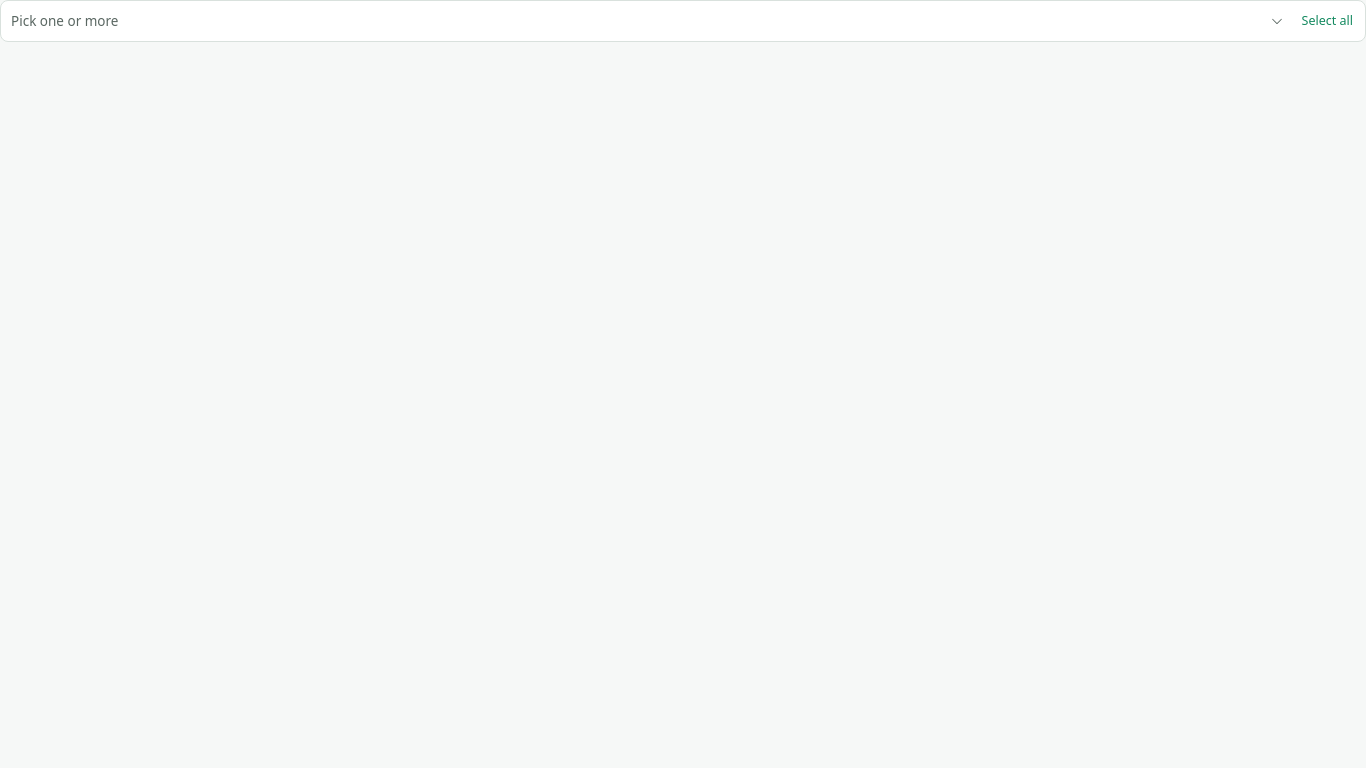
it: MultiSelect › ticks many, shows chips, removes one by its chip and clears
Click the button with aria-label "Branches" at (65, 21), box [5,5,1290,37]
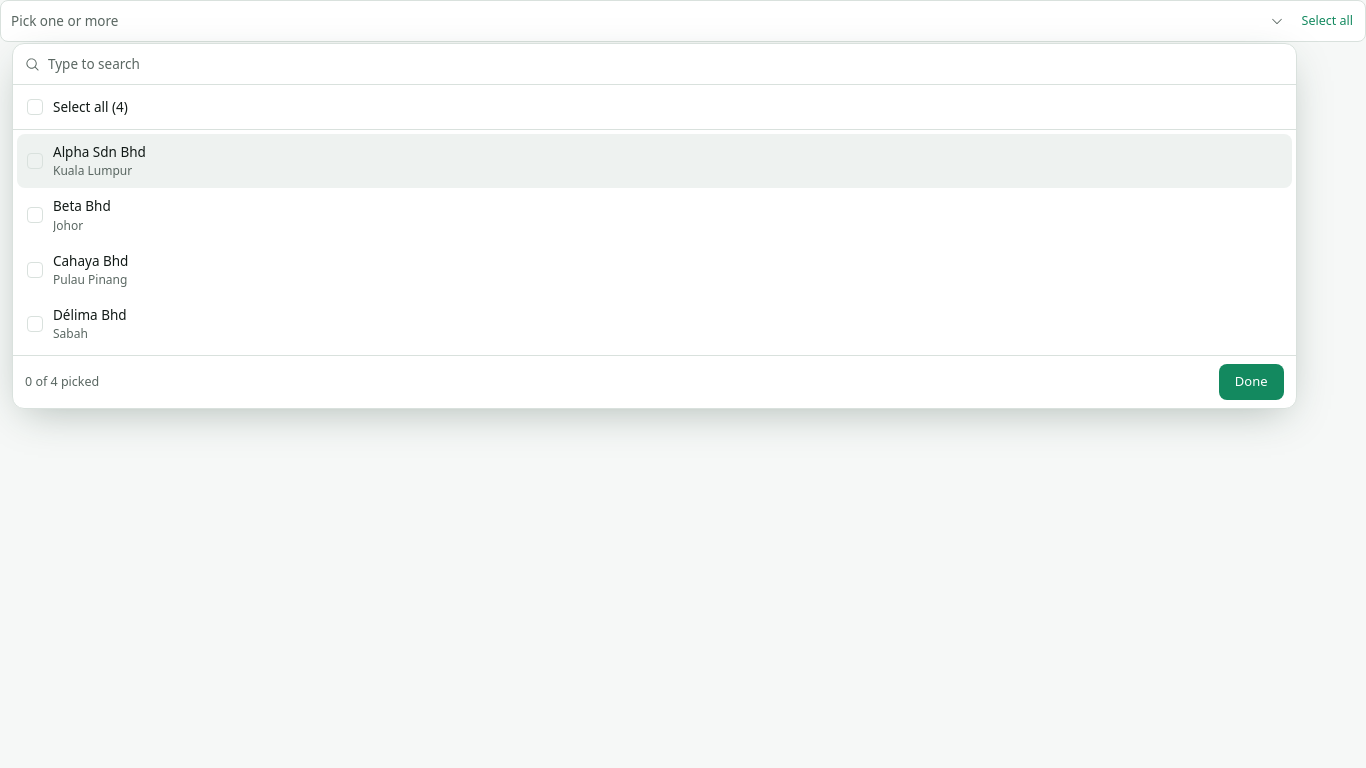
Click the option "Alpha Sdn Bhd Kuala Lumpur" at (99, 152), box [17,134,1292,188]
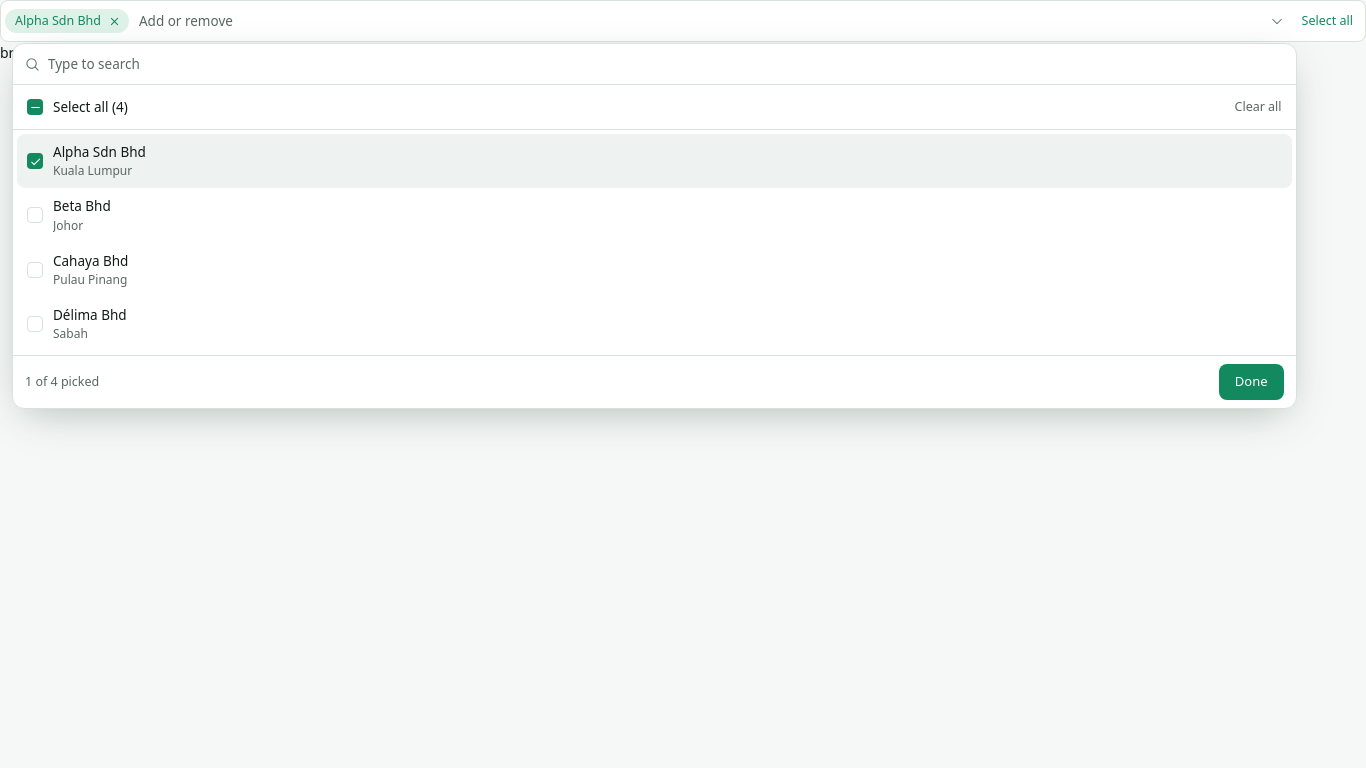
Click the option "Beta Bhd Johor" at (69, 215), box [27,197,111,234]
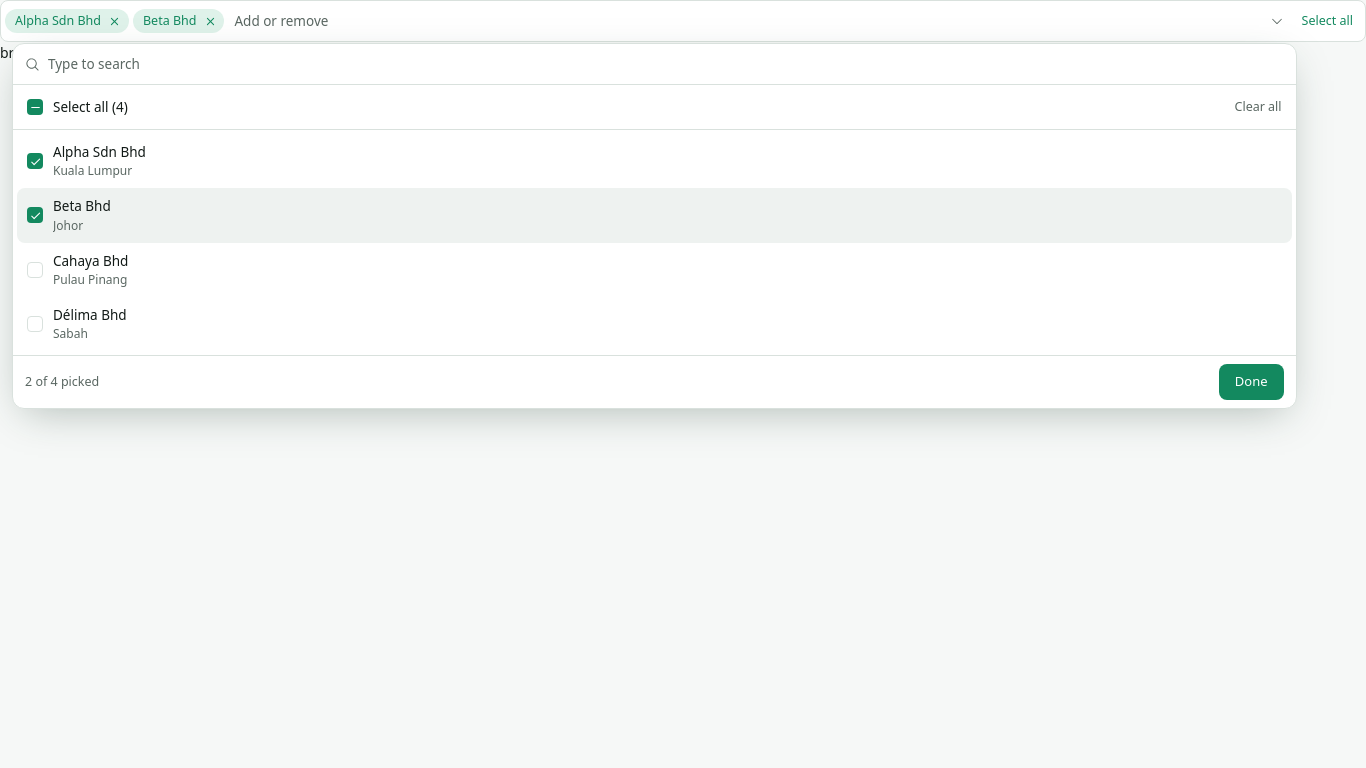
Expected: the text with test id "many" reads "br_a,br_b", [0,43,61,62]
Expected: the text "2 of 4 picked" is shown, [25,373,99,391]
Click the button "Done" at (1251, 382), box [1219,364,1284,400]
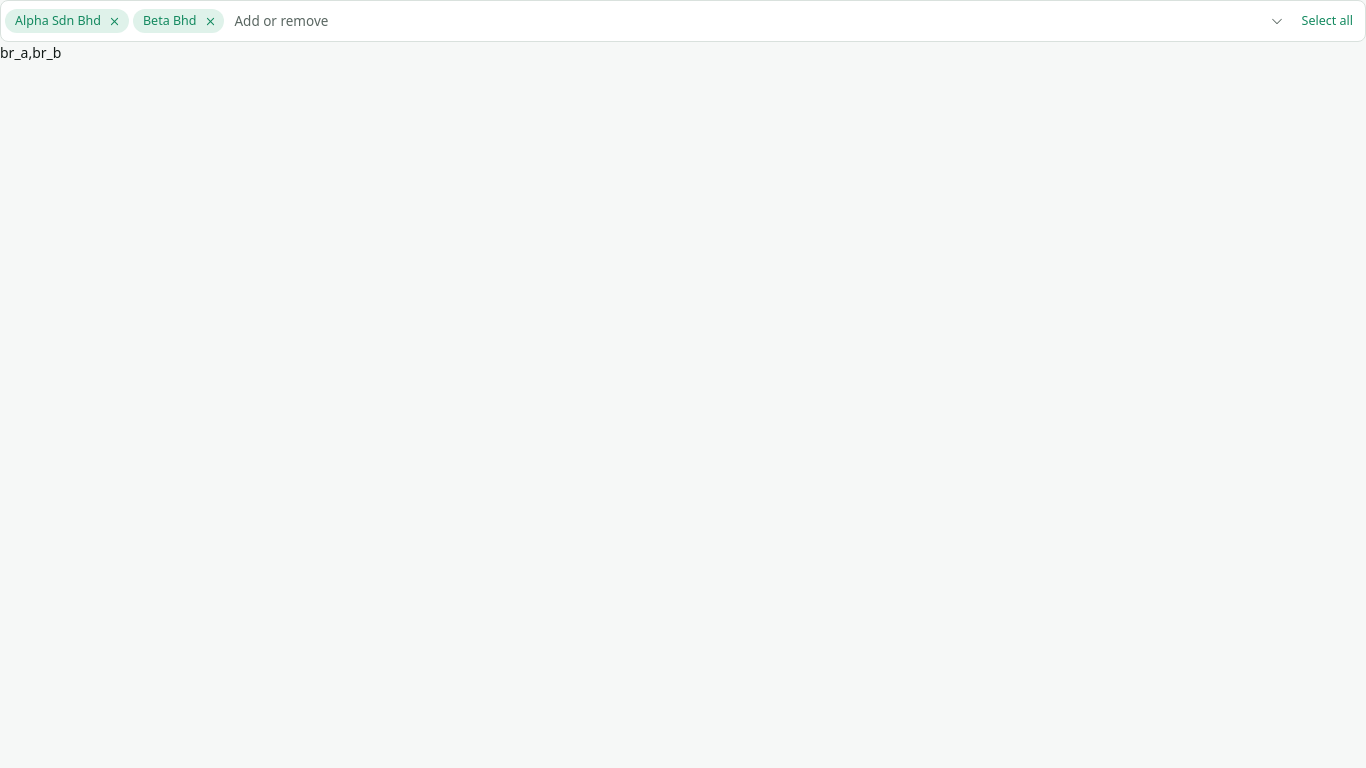
Expected: the dropdown is gone
Click the button named "Remove Alpha Sdn Bhd" at (115, 21), box [105,11,125,31]
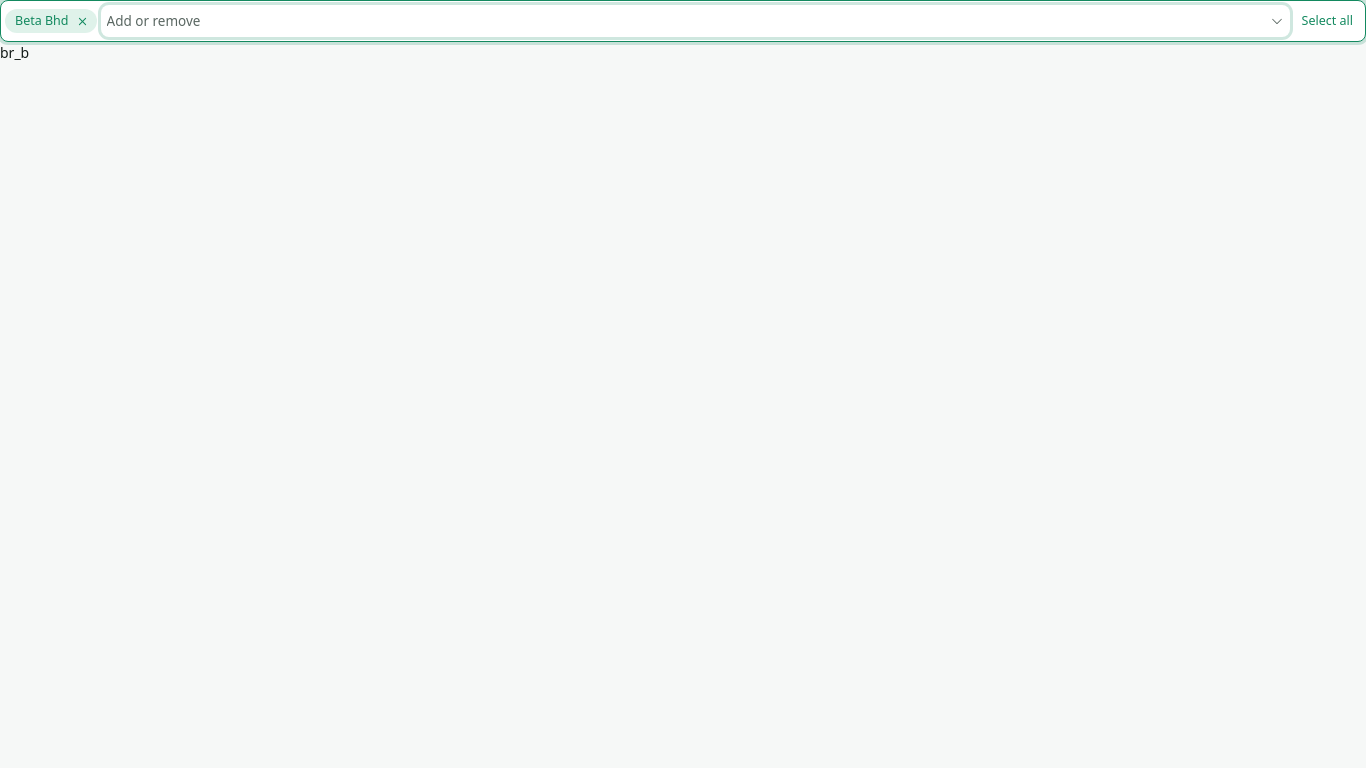
Expected: the text with test id "many" reads "br_b", [0,43,29,62]
